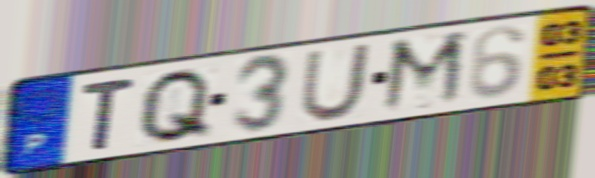3: (229, 50, 293, 138)
6: (466, 23, 529, 102)
M: (377, 27, 471, 117)
Q: (134, 66, 215, 147)
T: (78, 74, 139, 153)
U: (296, 40, 375, 125)
